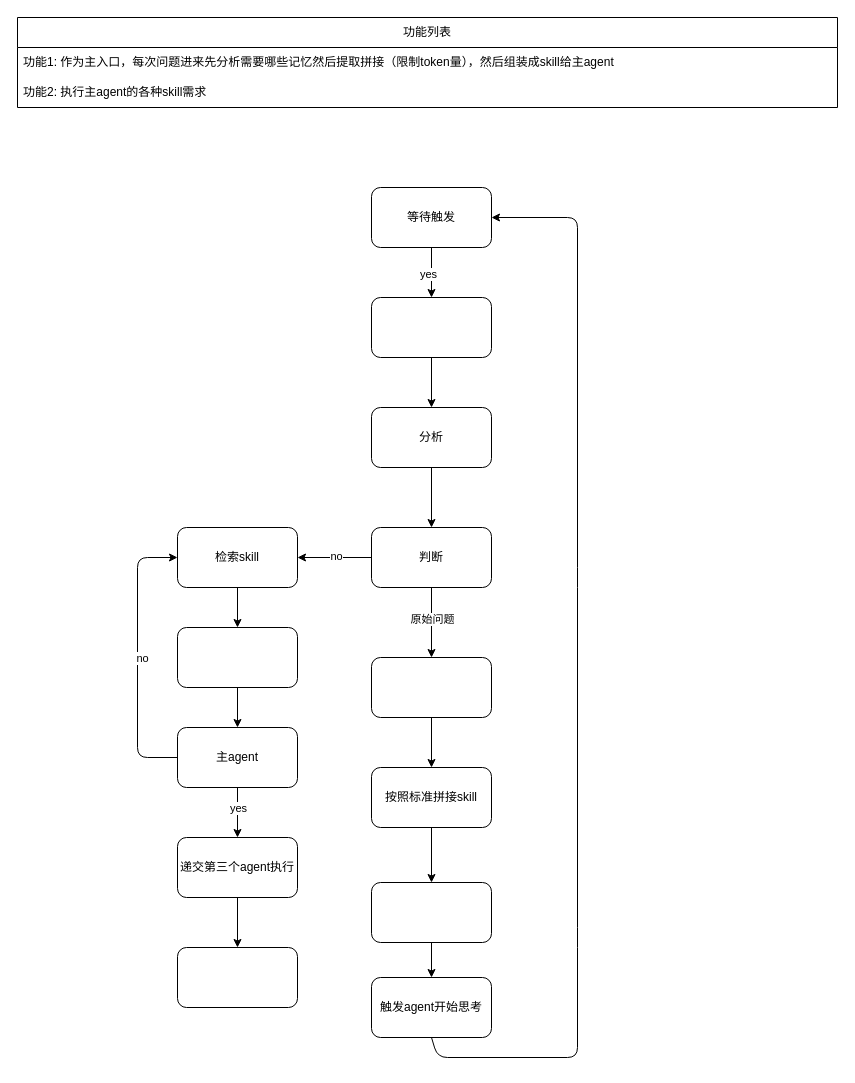
Image size: 855x1083. Some labels were removed from this diagram. Here are the shapes that lost their labels. From the top down, the centre of each, then its label:
At pixel 431 327: "问题".
At pixel 237 657: "返回skill需要列表".
At pixel 431 687: "检索需要的记忆".
At pixel 431 912: "载入主skill系统提示词".
At pixel 237 977: "入二层库".
